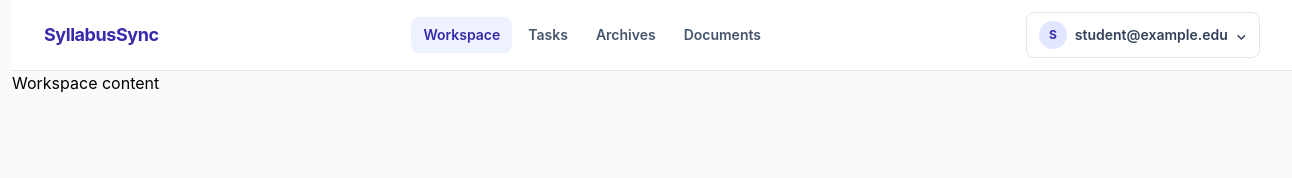
Test: AppShell › provides a signed-in account menu
The width and height of the screenshot is (1292, 178).
Check: the text "student@example.edu" is shown, box [1075,26,1228,43]
Step 1. Click the heading "S student@example.edu ⌄" → (1143, 35), box [1026,12,1260,58]
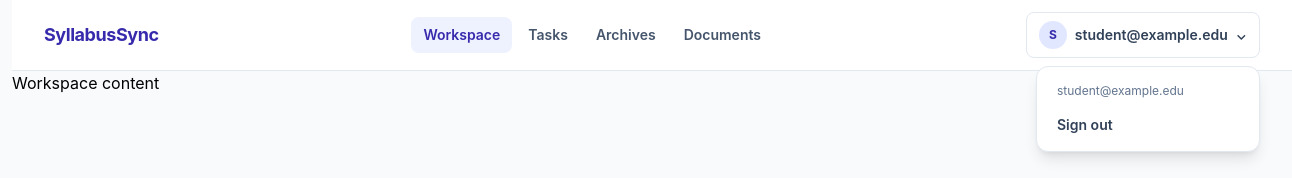
Check: the button "Sign out" is shown, box [1045,107,1251,143]
